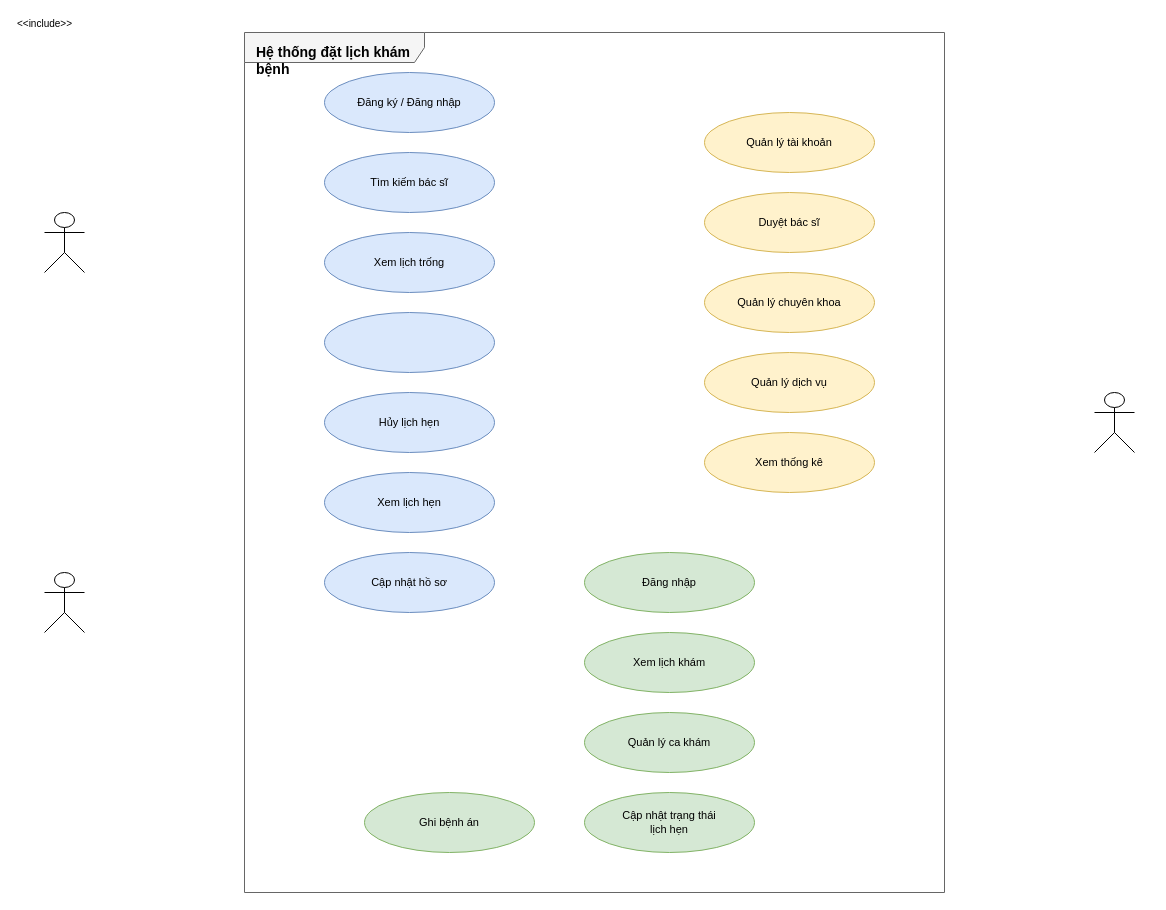
This 1166x910 diagram has some shape labels left out. The box of each missing label's shape, as (x1, y1, x2, y2) in pixels:
Bác sĩ: (44, 572, 84, 632)
Bệnh nhân: (44, 212, 84, 272)
Quản trị viên: (1094, 392, 1134, 452)
Đặt lịch khám: (324, 312, 494, 372)
